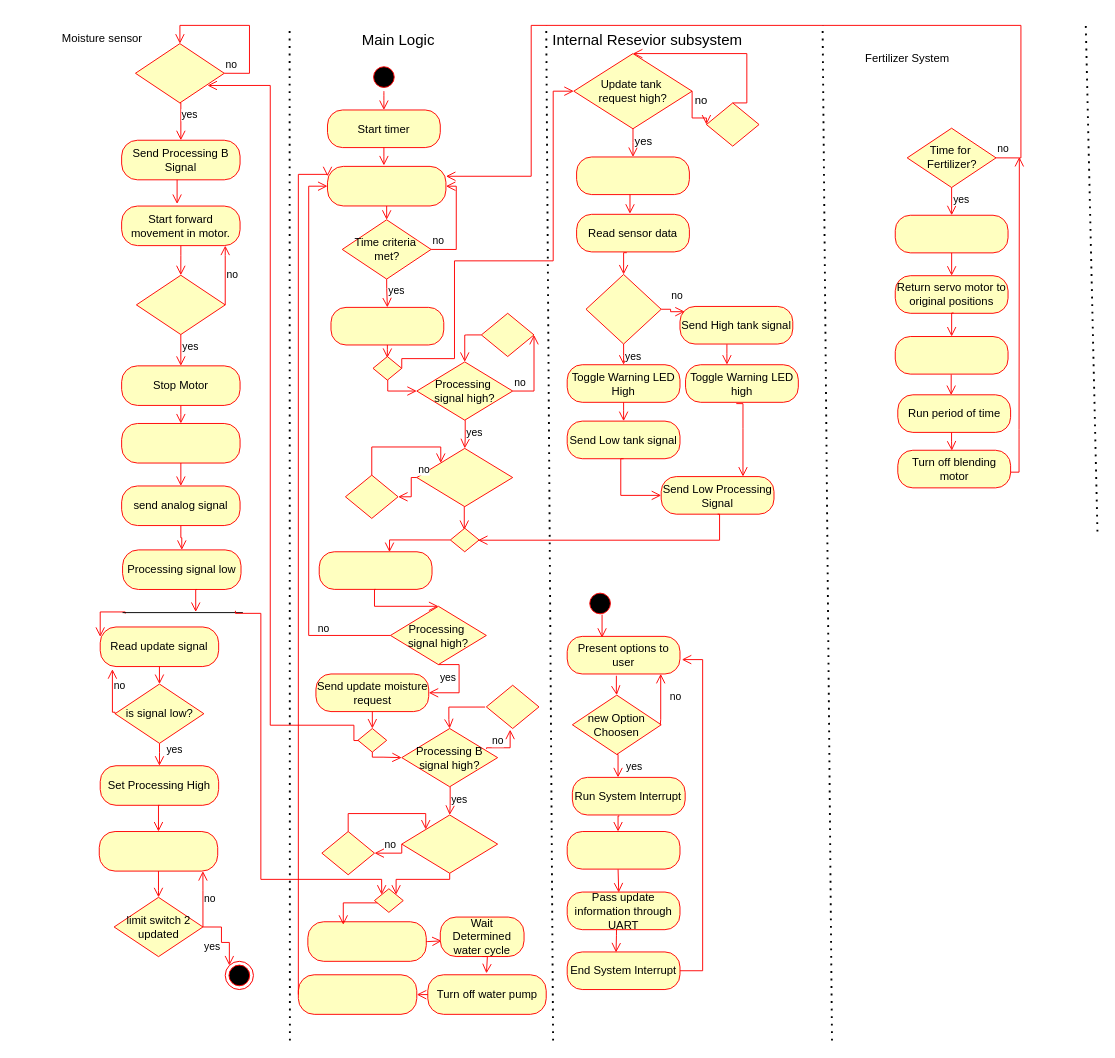
Image size: 1115x1058. Some labels were removed from this diagram. Here are the shapes that lost their labels. From the top down, the centre of each, then its label:
pixel 179 73: new update signal?
pixel 386 185: Read for time signal
pixel 632 175: Send processing signal
pixel 951 233: Move servo motor
pixel 180 304: limit switch 1 updated
pixel 623 309: Water below acceptable height?
pixel 387 325: Send update tank request
pixel 951 355: Turn on blending motor
pixel 180 443: Read moisture sensor signal
pixel 464 477: Processing signal low?
pixel 375 570: read tank request
pixel 158 851: Start reverse movement on motor
pixel 449 843: Processing B signal low?
pixel 623 850: Take User Input
pixel 366 941: Turn on water pump
pixel 357 994: Send low moisture request
